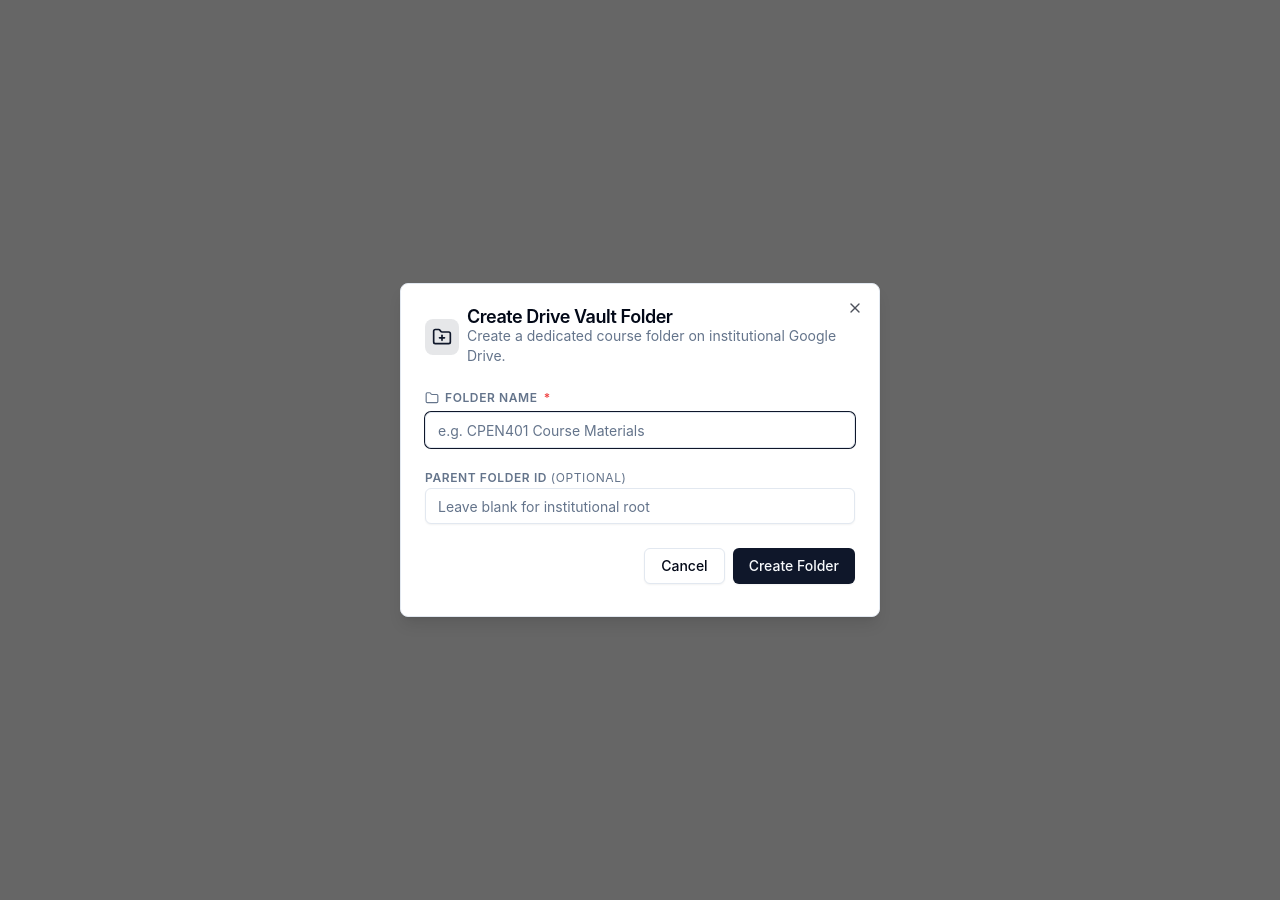
Test: Google Vault Dialogs and Components › CreateFolderDialog › validates folder name input
The width and height of the screenshot is (1280, 900).
What coordinates should you click on to do the following:
click the button "Create Folder"
I would click on:
 (794, 566)
Its box is left=733, top=548, right=855, bottom=584.
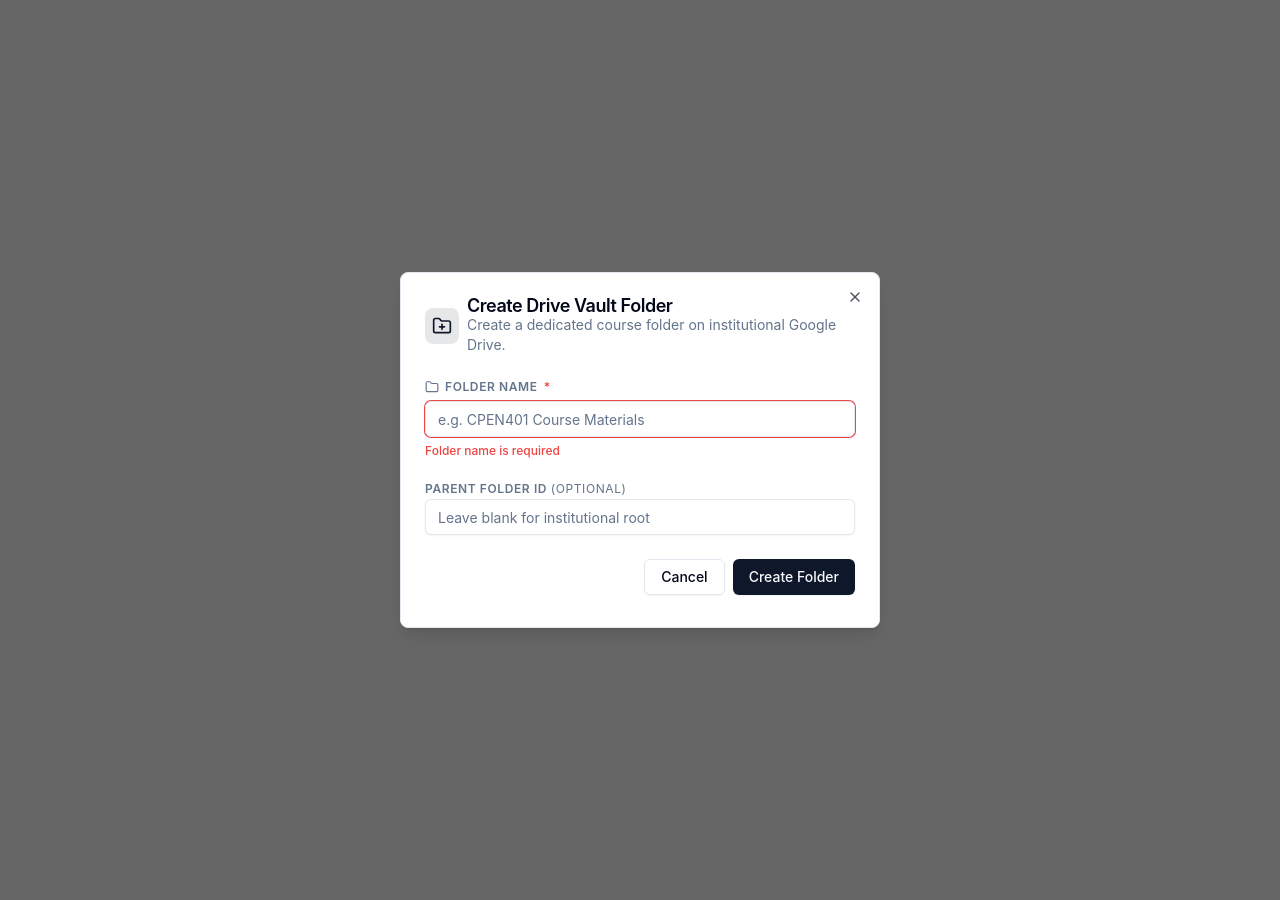
Result: the text "Folder name is required" is shown at left=425, top=443, right=560, bottom=458
